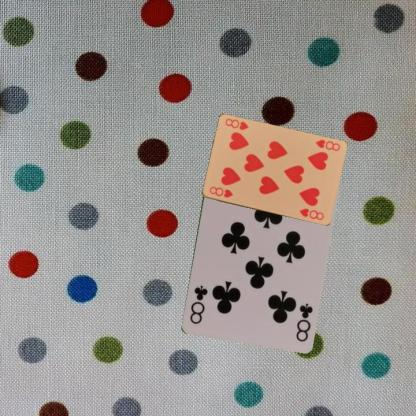8c: (293, 300, 314, 342)
8h: (312, 137, 341, 152), (206, 184, 234, 198)
